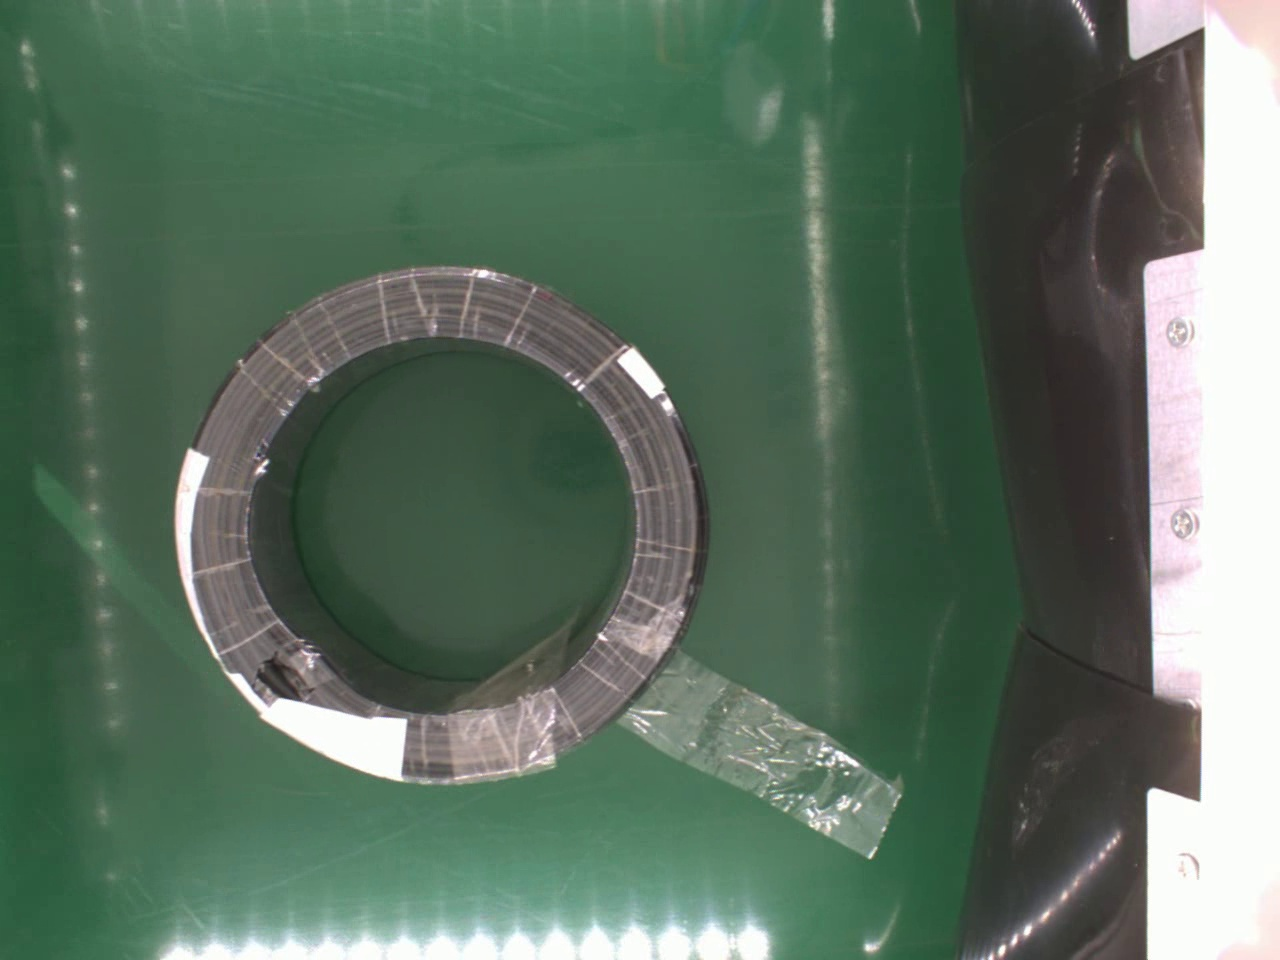black: (168, 261, 709, 801)
